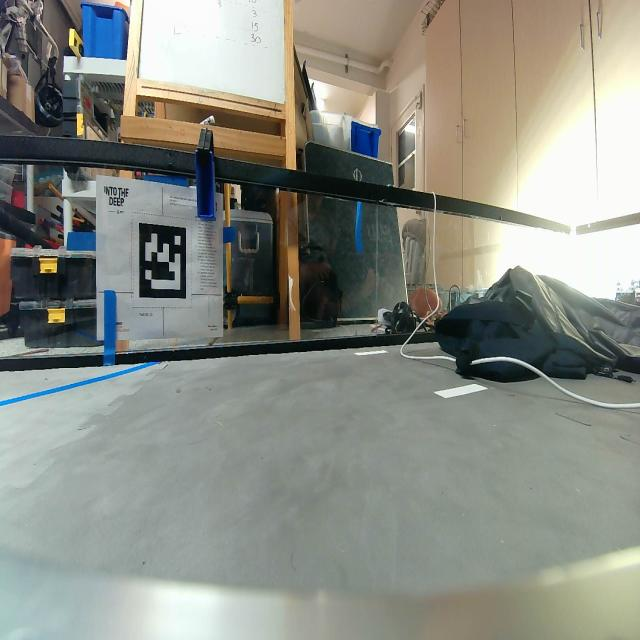specimen_block_blue: (194, 150, 220, 222)
